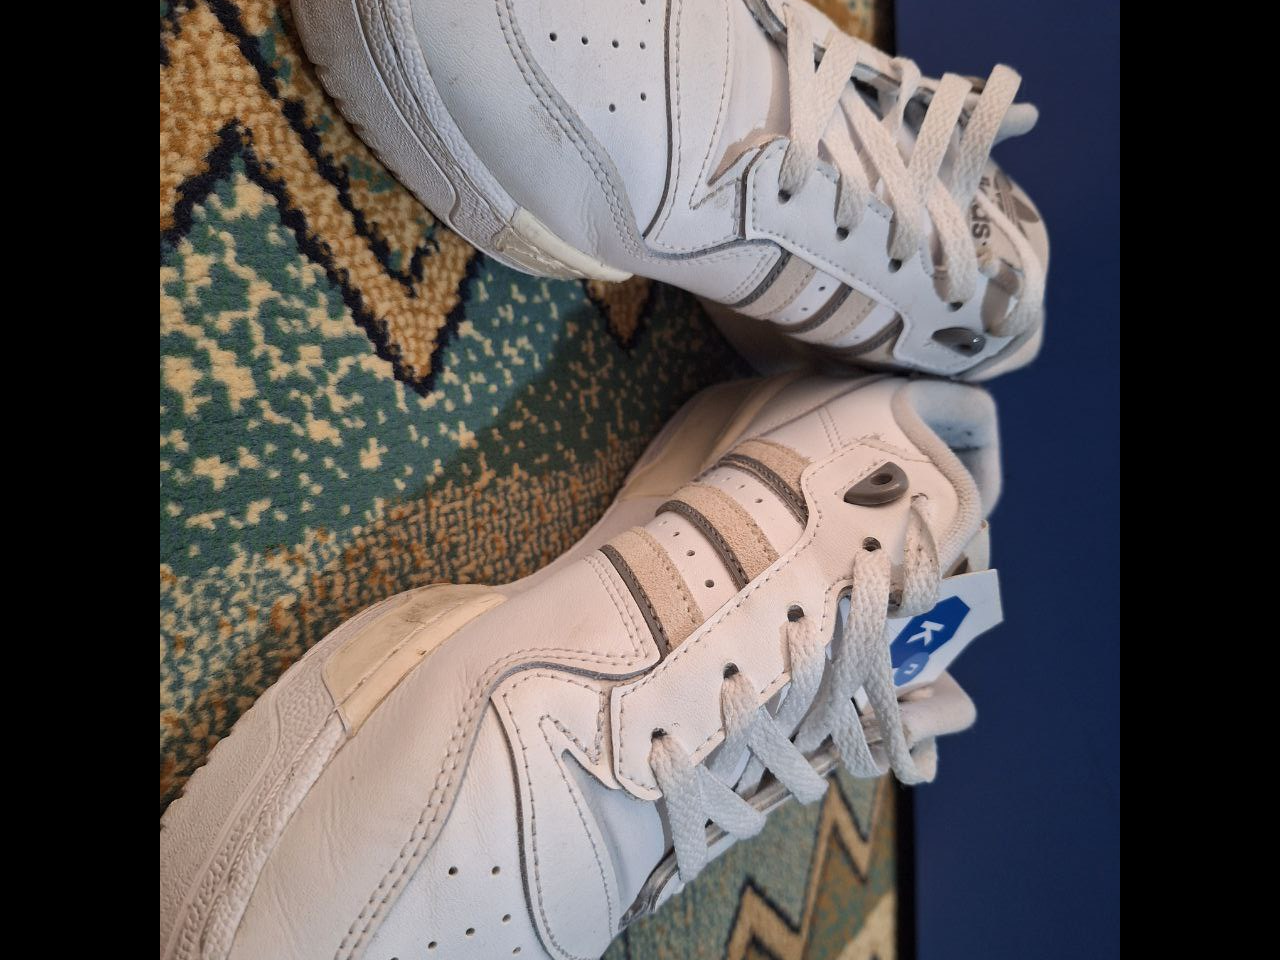knative: (888, 587, 977, 706)
